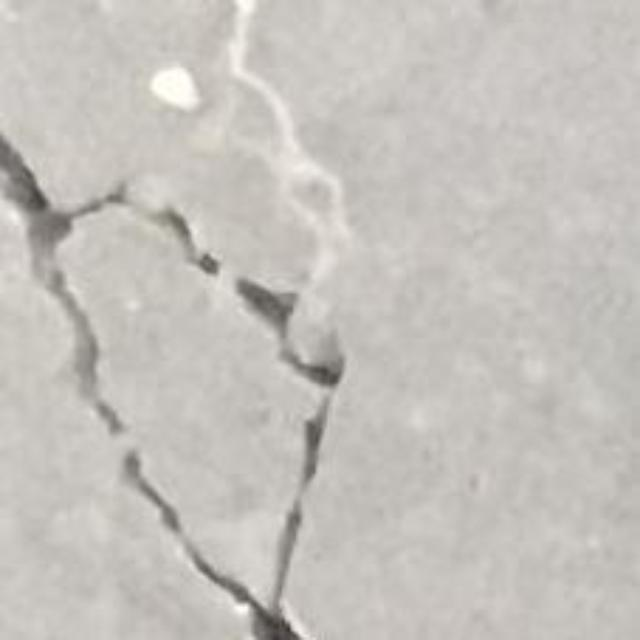crack: (0, 0, 355, 639)
peeling plaster: (147, 65, 202, 112)
